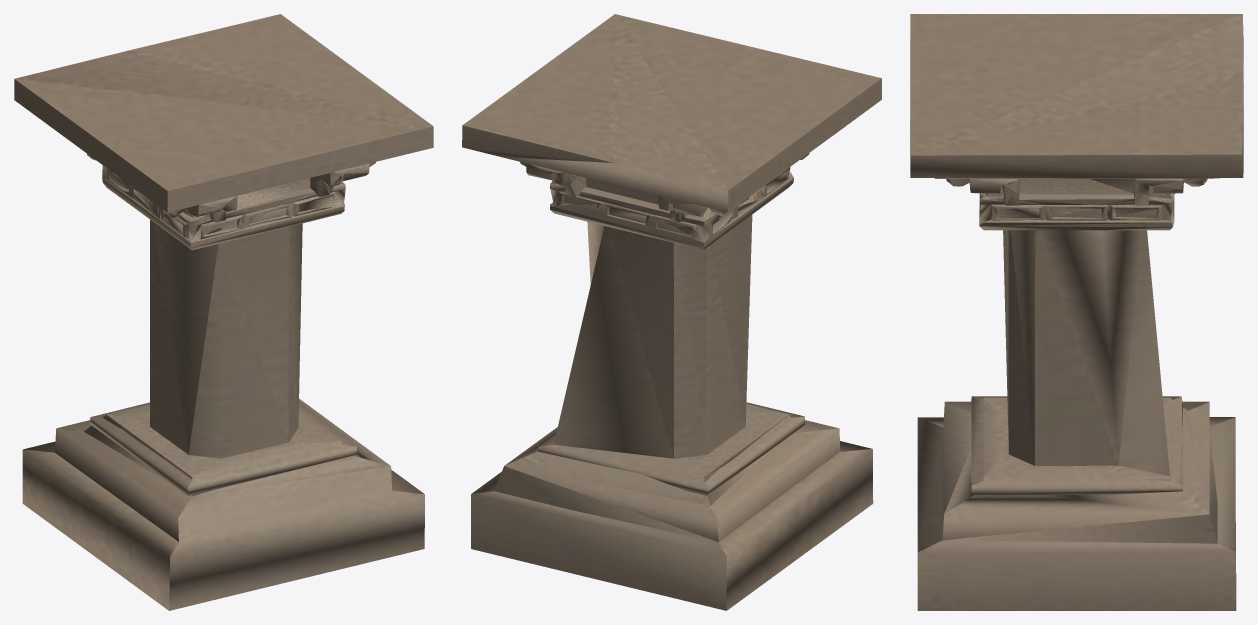
The model's file is pillar.glb.
The picture shows the model from 3 angles, left to right: view 1: azimuth 30°, elevation 25°; view 2: azimuth 150°, elevation 25°; view 3: azimuth 270°, elevation 25°; orthographic projection. The views are drawn at different scales.
Visible parts, largest first — view 1: environment-pillar, environment-pillar-background; view 2: environment-pillar, environment-pillar-background; view 3: environment-pillar, environment-pillar-background.
Part boxes in pixels (left/top/right/bottom): environment-pillar: left=14, top=14, right=433, bottom=610; environment-pillar-background: left=84, top=162, right=390, bottom=496; environment-pillar: left=462, top=14, right=881, bottom=610; environment-pillar-background: left=494, top=170, right=793, bottom=541; environment-pillar: left=910, top=14, right=1243, bottom=610; environment-pillar-background: left=944, top=178, right=1217, bottom=543.
Size of the model in its own units: 50 by 76 by 50.
Materials: 1 (1 with a texture image).
